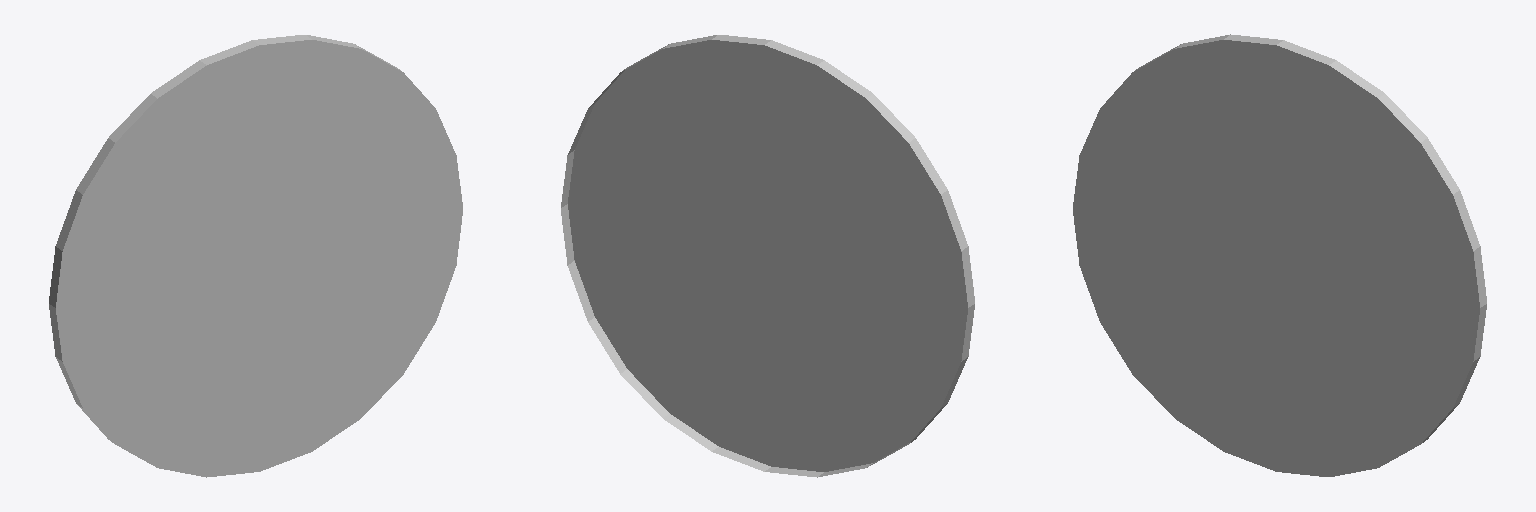
The model's file is original-84.obj.
The picture shows the model from 3 angles: view 1: azimuth 30°, elevation 25°; view 2: azimuth 150°, elevation 25°; view 3: azimuth 330°, elevation 25°; orthographic projection.
Parts seen in each view (by area): view 1: #ID341; view 2: #ID341; view 3: #ID341.
Boxes of the visible parts, <box> form: #ID341: <box>49,35,462,477</box>; #ID341: <box>561,35,974,477</box>; #ID341: <box>1073,34,1486,476</box>.
Size of the model in its own units: 0.0193 by 0.0193 by 0.0006.